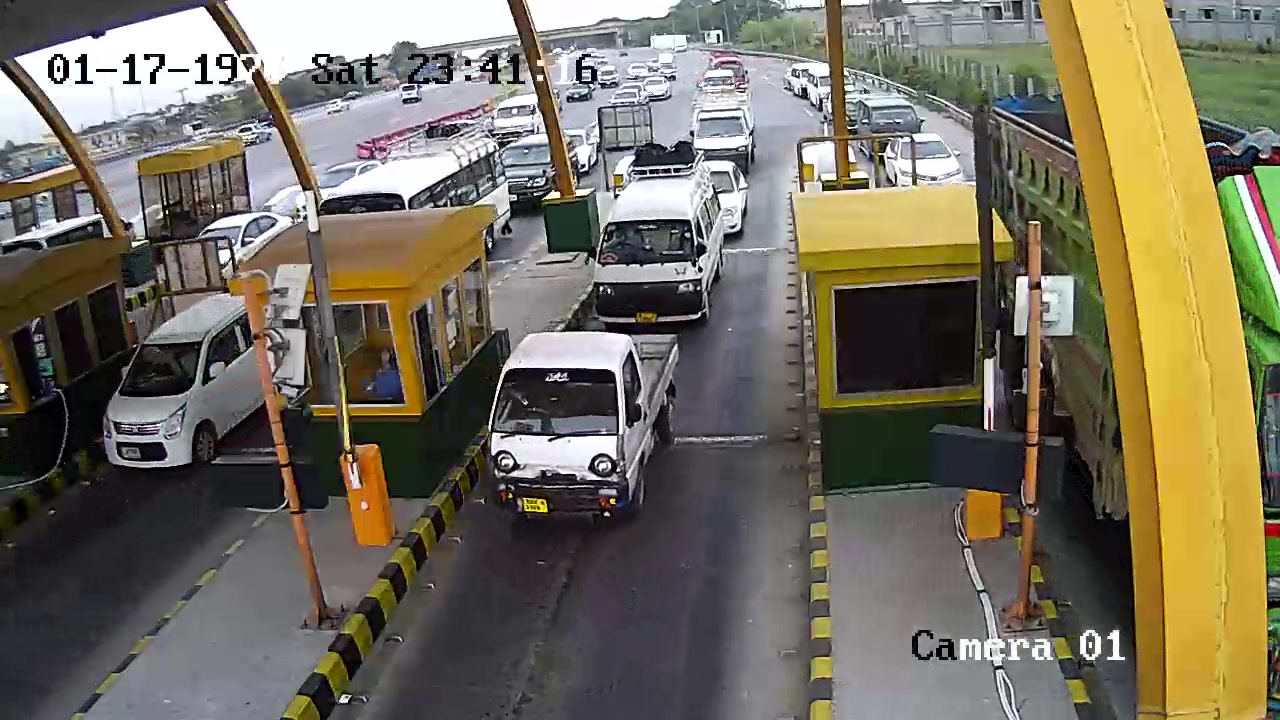F1: (491, 327, 689, 531)
F2: (590, 137, 728, 330)
